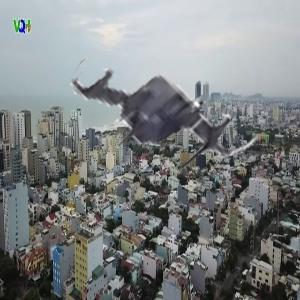drone: (67, 9, 266, 208)
